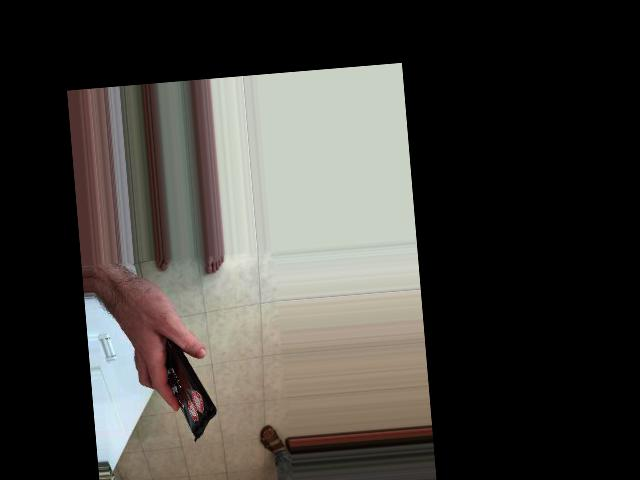chocolate: (151, 328, 216, 444)
